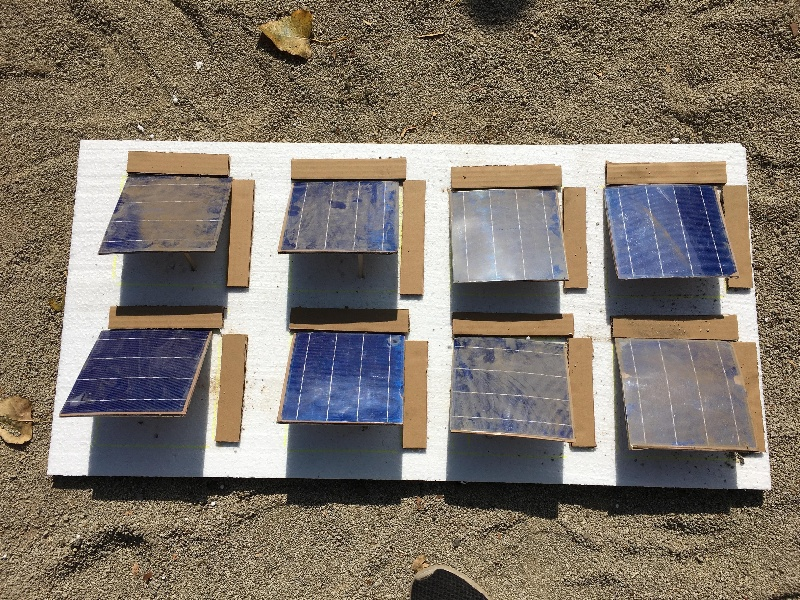clean: (600, 181, 739, 280), (58, 328, 214, 415), (278, 328, 406, 421)
dirty: (612, 341, 756, 450), (451, 338, 576, 445), (453, 181, 566, 284), (99, 173, 234, 255)
semi: (274, 180, 407, 251)
